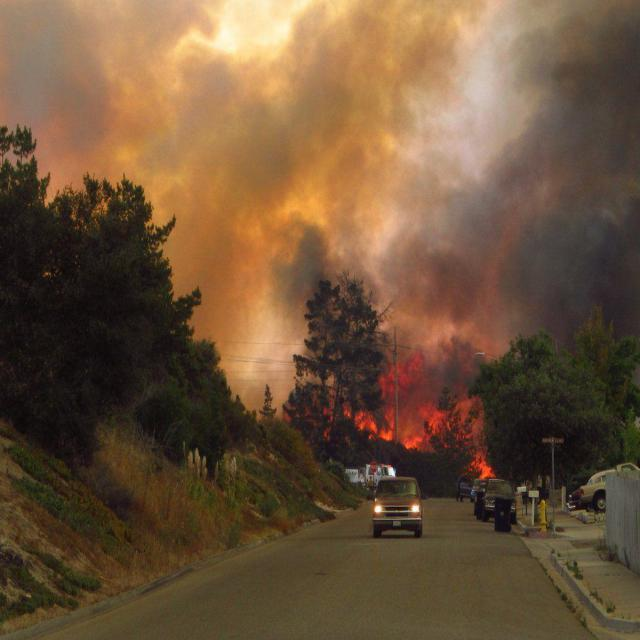Fire: (321, 348, 498, 481)
